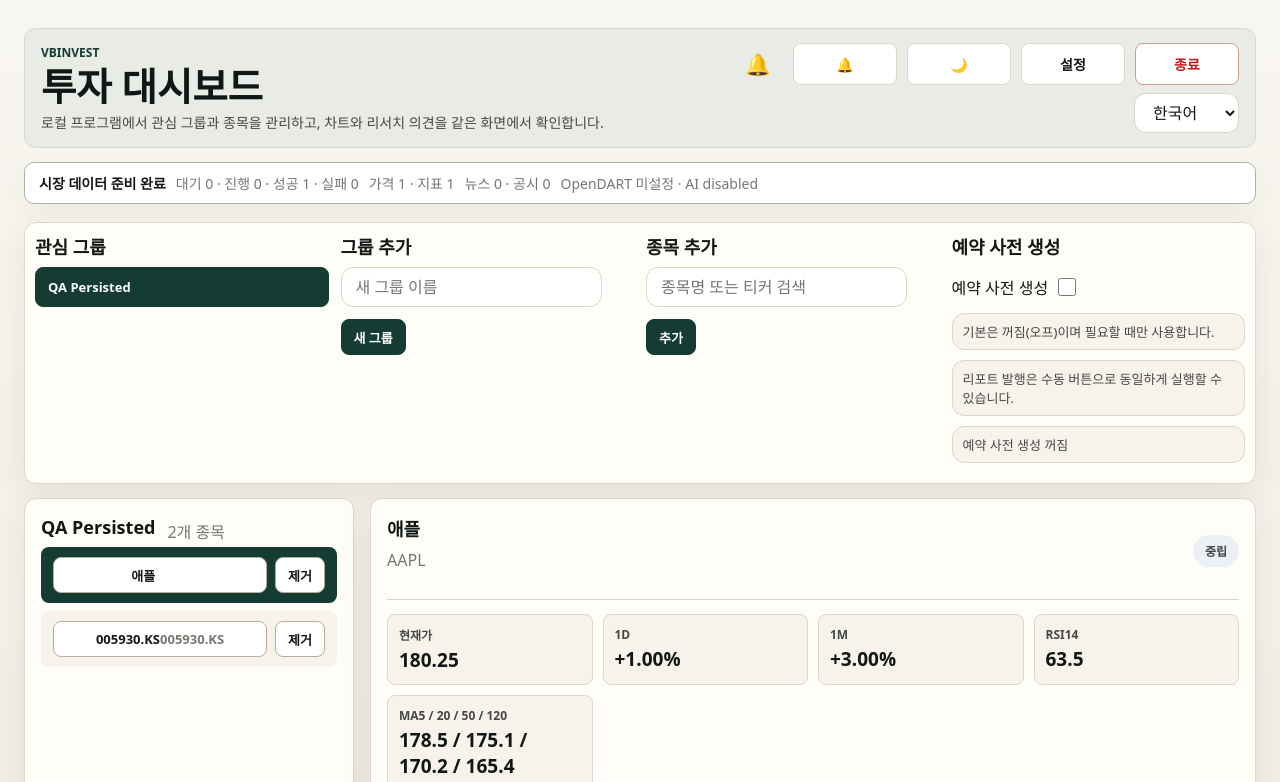
WatchlistDashboard › loads persisted watchlists from backend and renders them from /api/watchlists
Expected: the button "QA Persisted" is shown, [35,267,328,307]
Expected: the button with test id "symbol-AAPL" shows "AAPL", [53,557,267,593]
Click the button with test id "symbol-005930.KS".
click(160, 639)  # box [53,621,267,657]
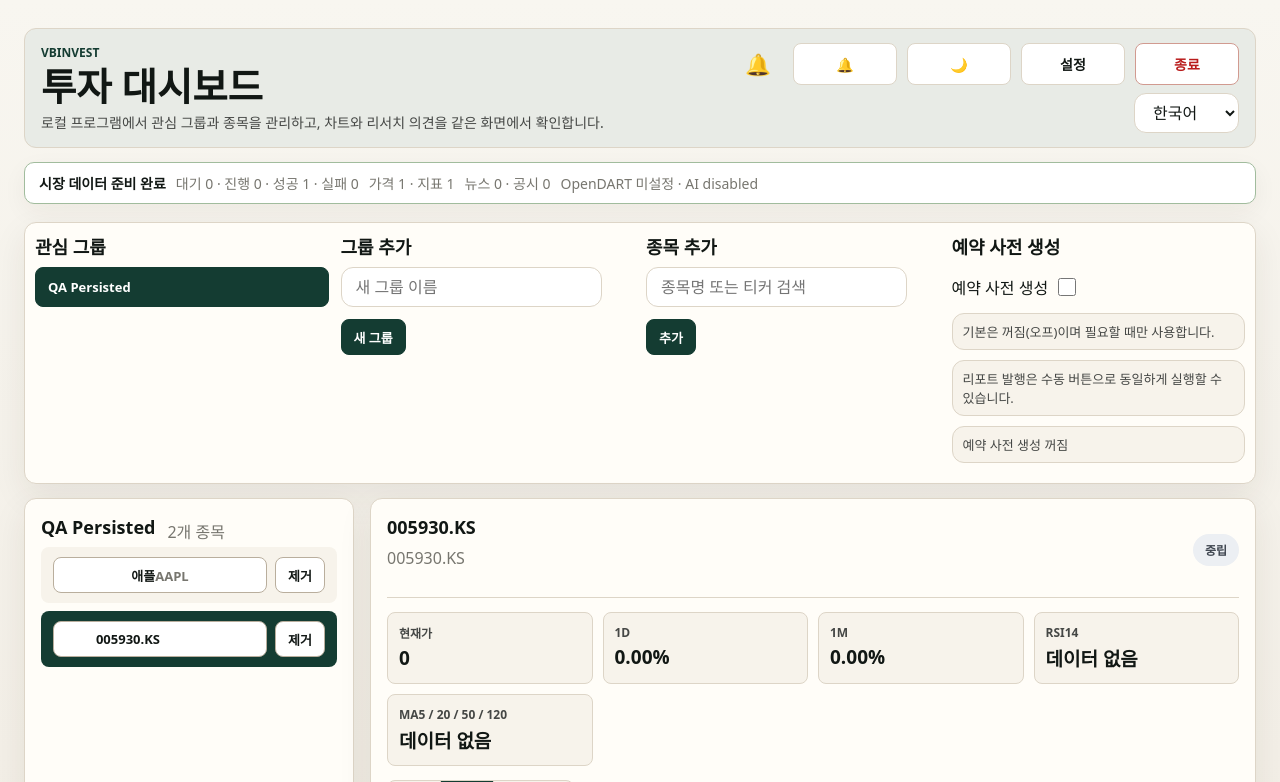
Result: the heading "005930.KS" is shown at [387,515,476,539]
